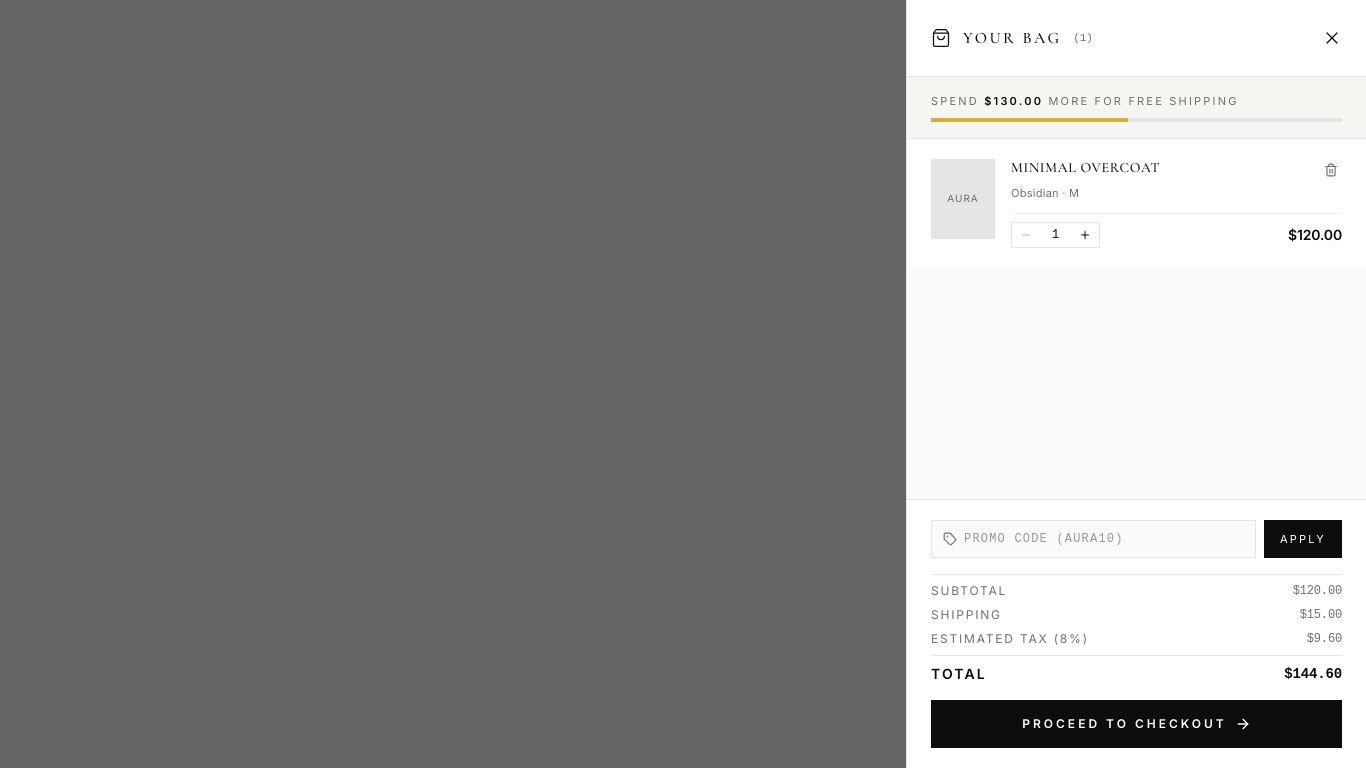
it: CartDrawer › applies valid promo code AURA10 via input
Type "aura10" into the field with test id "promo-input" at (1094, 539), box [931,520,1256,558]
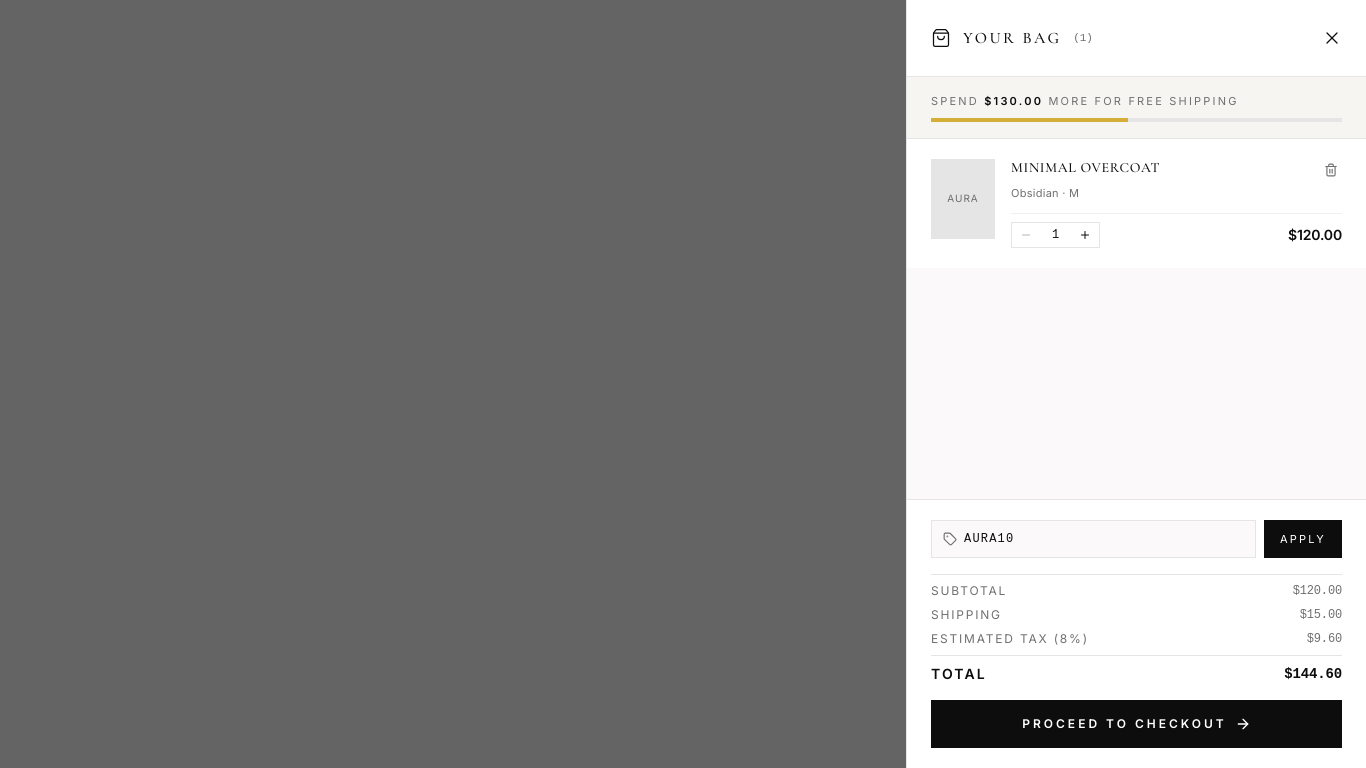
Click the button with test id "promo-apply-btn" at (1303, 539), box [1264,520,1342,558]
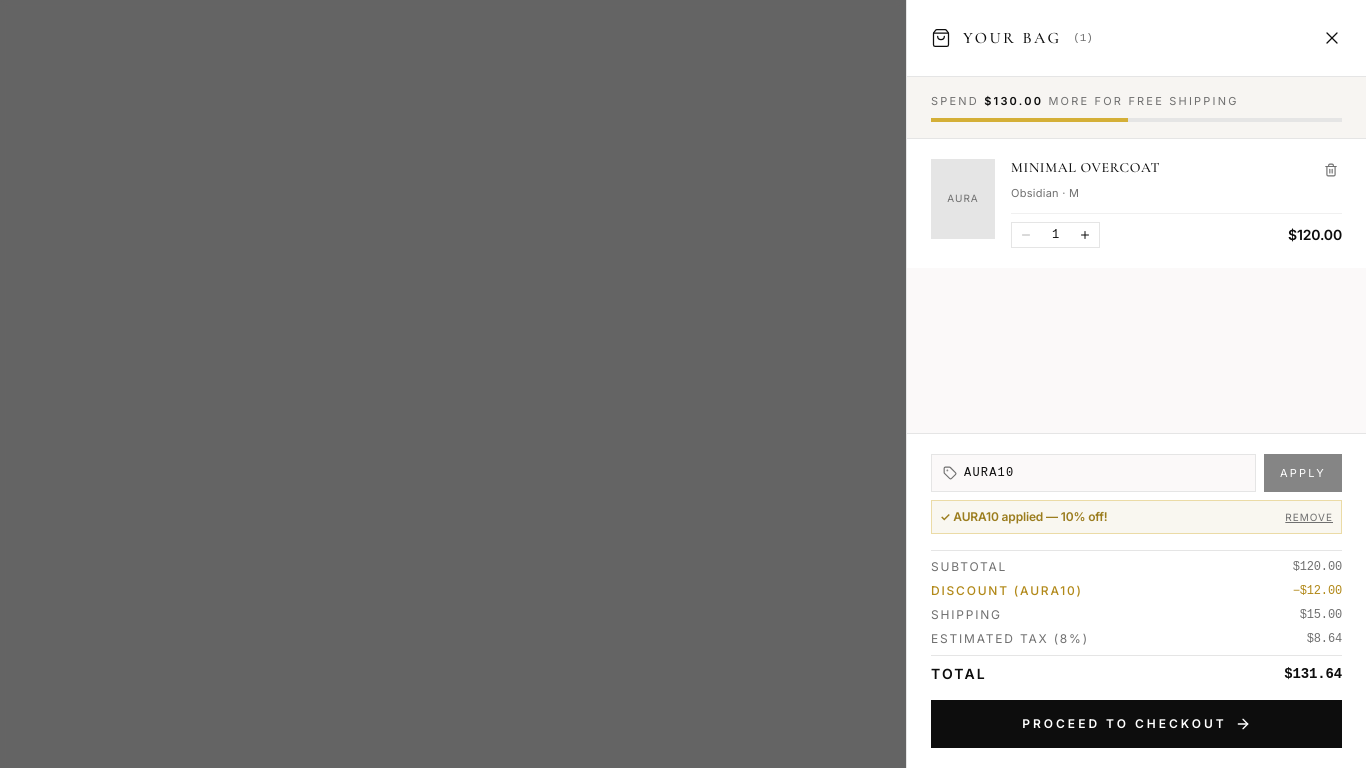
Now the element with test id "promo-applied" is shown, box [931,500,1342,534]
Now the text "−$12.00" is shown, box [1293,583,1342,599]
